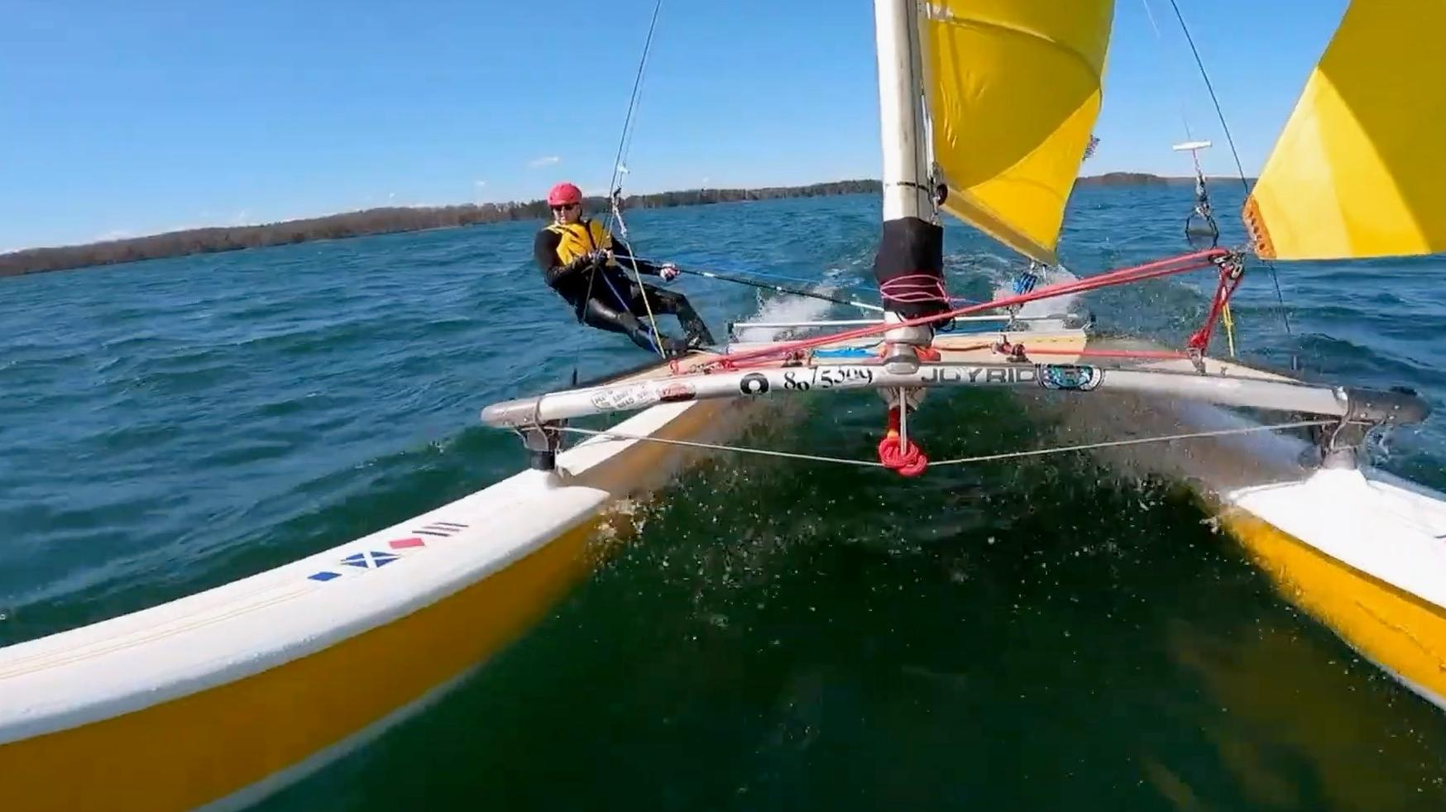boat: (0, 0, 1446, 812)
land: (0, 202, 560, 277), (573, 178, 887, 213), (1076, 175, 1257, 188)
person: (534, 183, 715, 359)
sea: (196, 384, 1446, 812), (0, 220, 656, 645), (1228, 255, 1446, 495), (625, 195, 880, 335), (1060, 175, 1242, 278)
sky: (0, 0, 885, 254), (1086, 0, 1351, 178)
